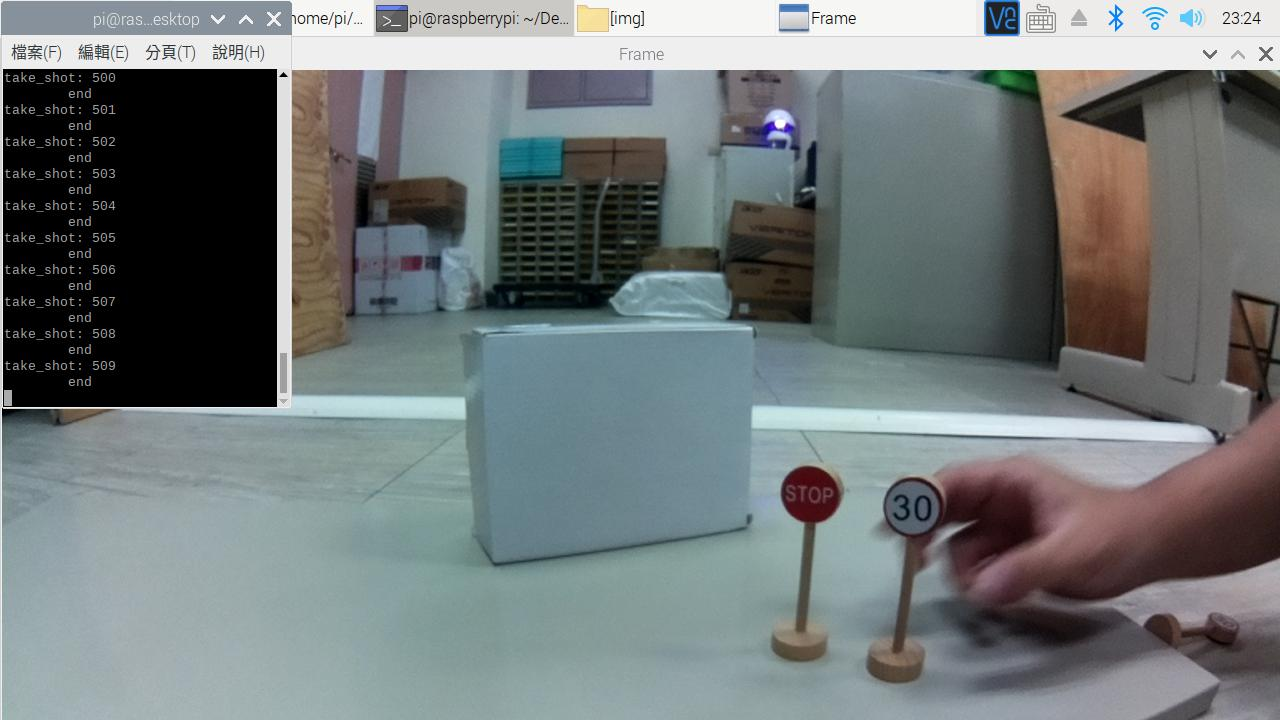Speed30: (882, 464, 946, 543)
Stop: (770, 446, 847, 536)
